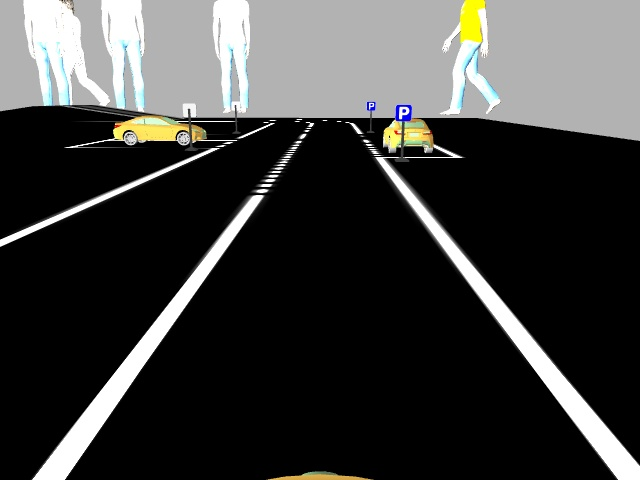Parking: (394, 104, 411, 120), (364, 100, 375, 111)
